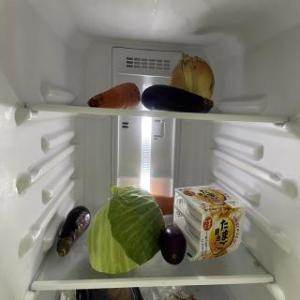cabbage: (89, 184, 165, 276), (151, 192, 177, 216)
carrot: (86, 82, 138, 108)
eggplant: (142, 83, 212, 113), (58, 204, 91, 262), (160, 224, 186, 264)
onion: (168, 56, 214, 100)
